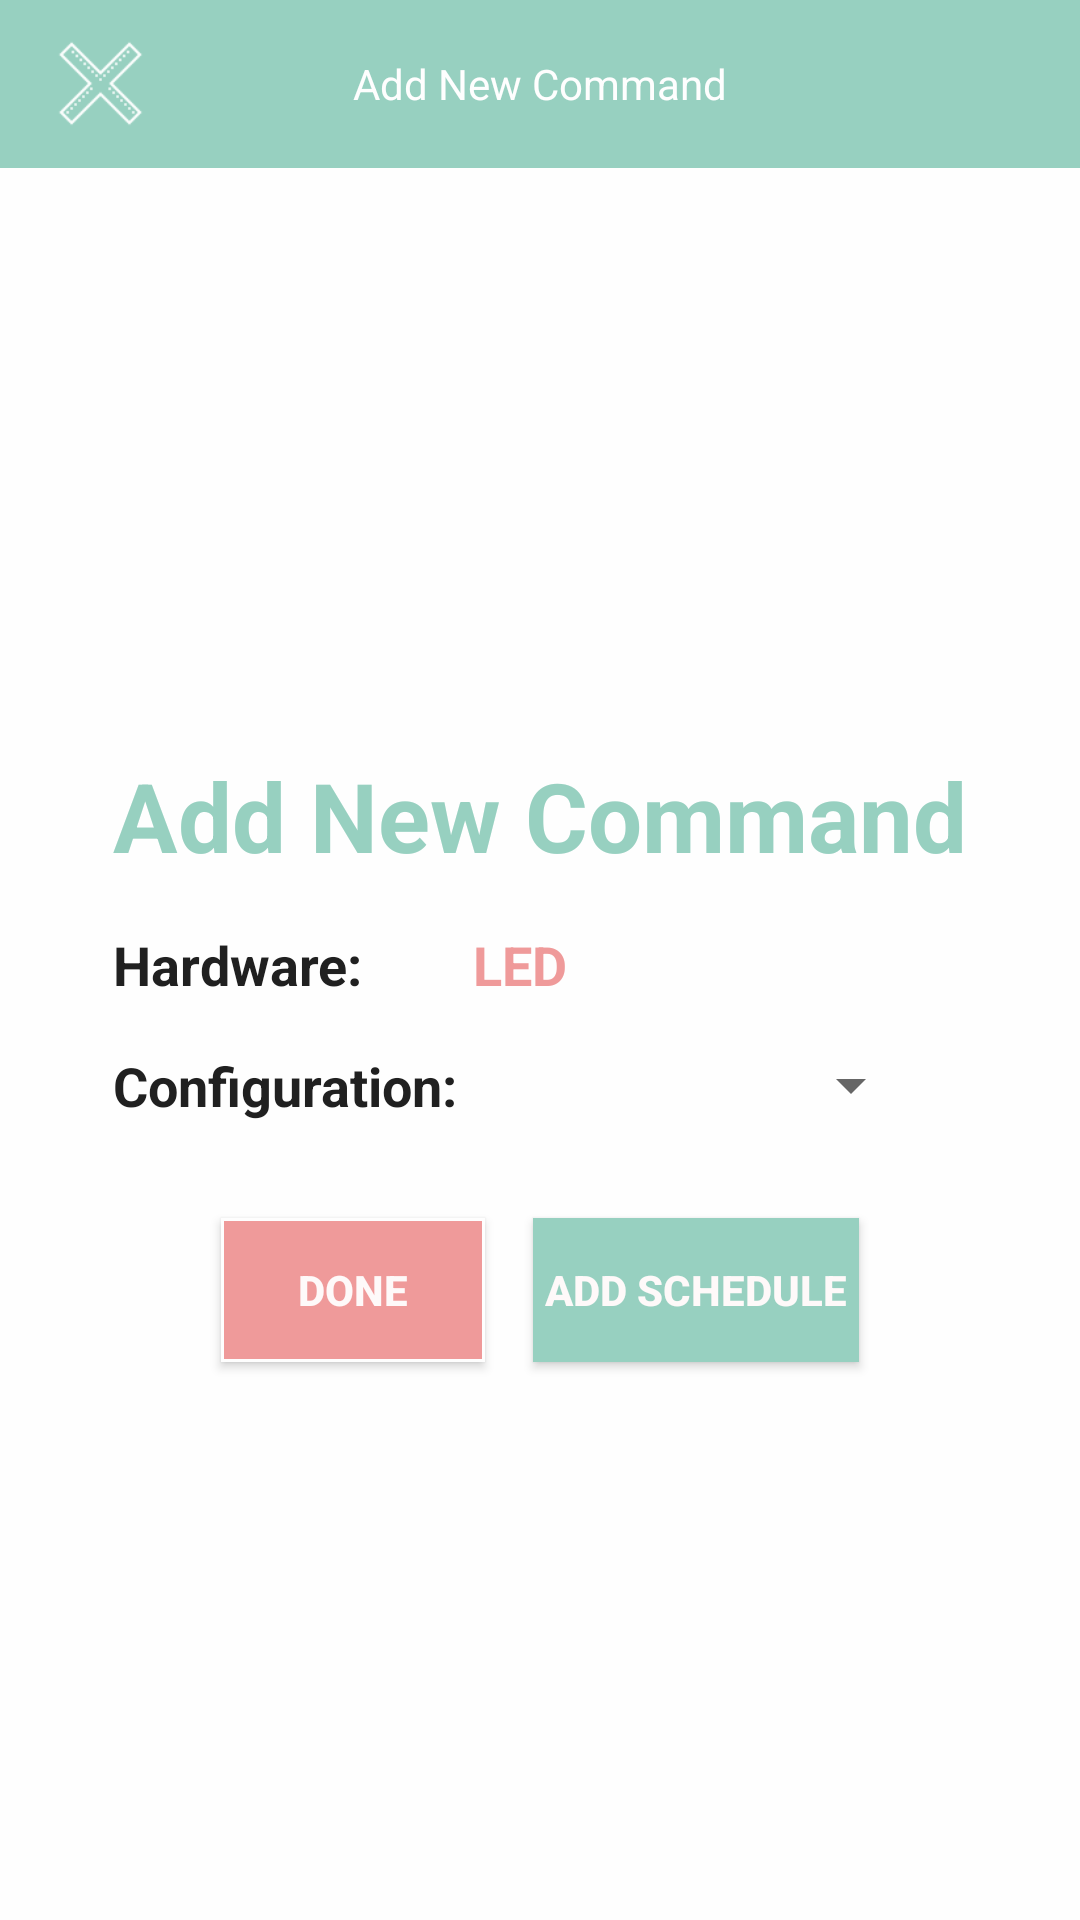

Point at icon controls on the screen. Image size 1080 x 1920, points as (x,y).
close: (100,83)
